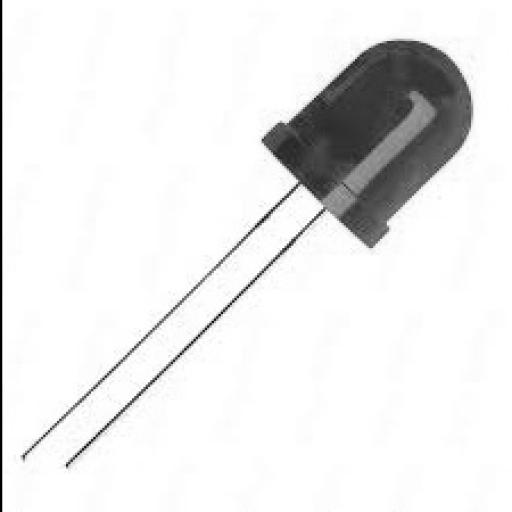LED: (10, 10, 512, 496)
